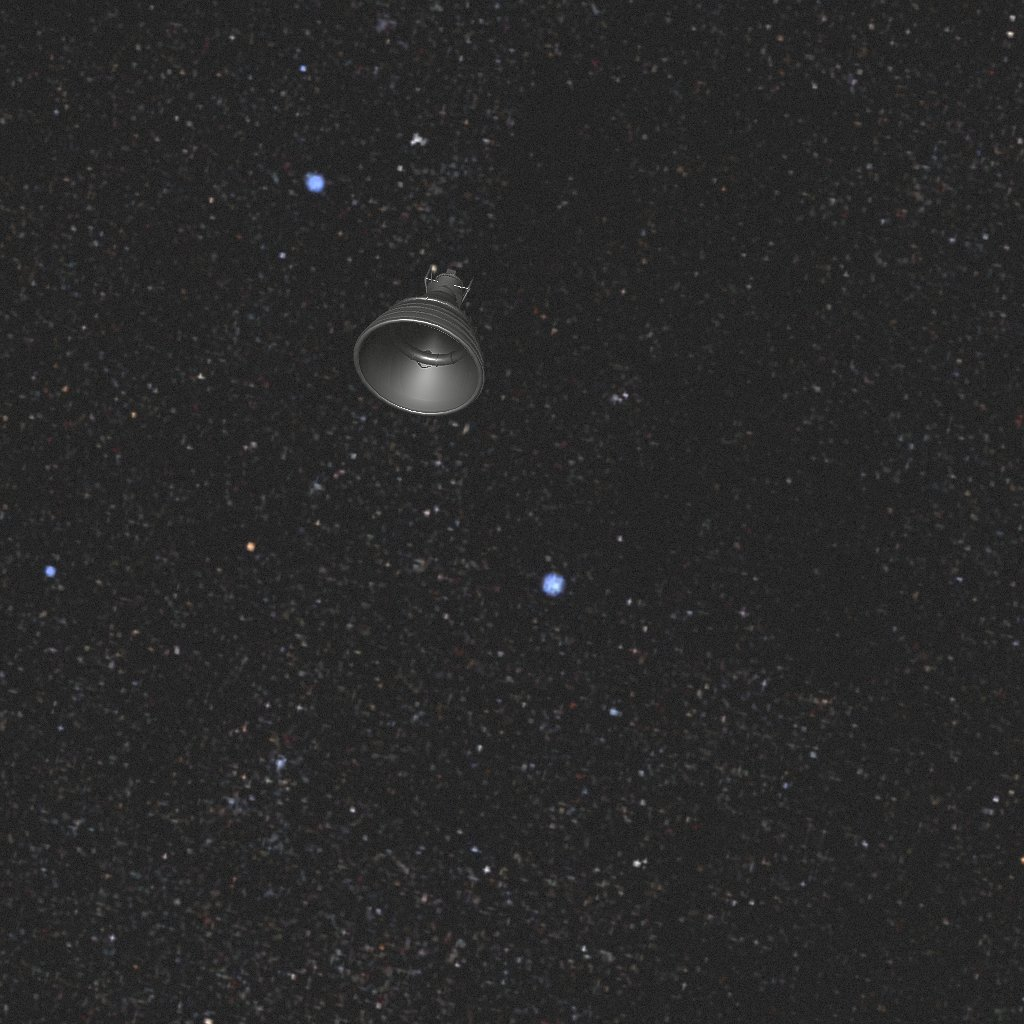debris: (354, 267, 485, 417)
